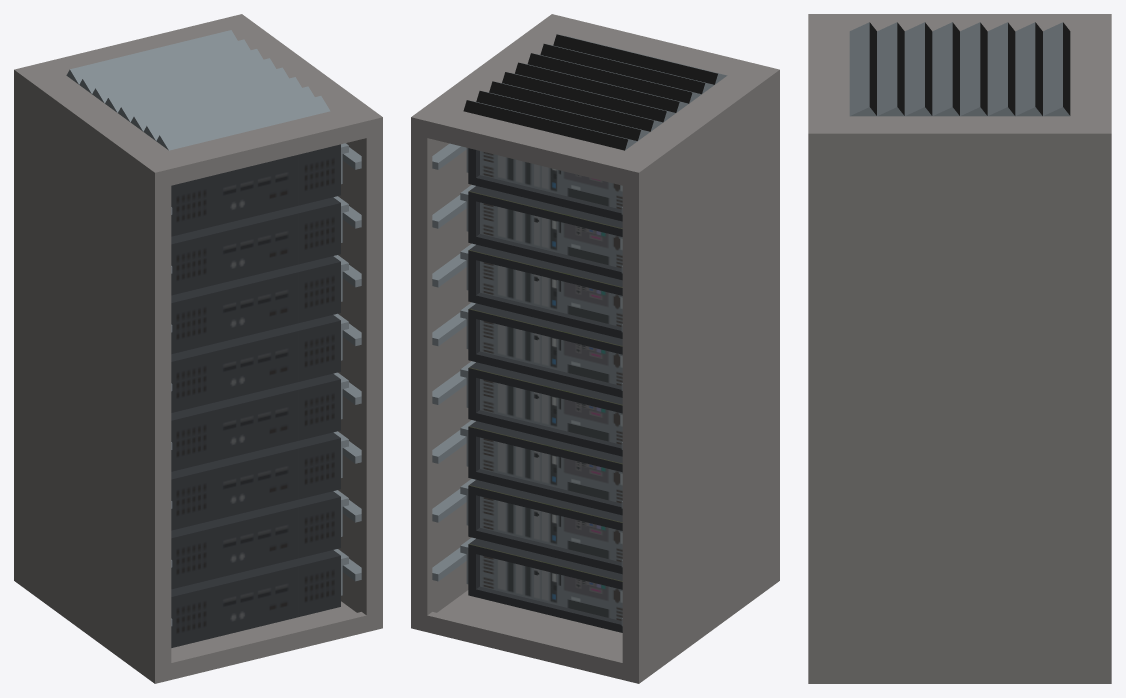
Rendered from AmpRack.obj.
3 views of the same model, side by side, from view 1: azimuth 30°, elevation 25°; view 2: azimuth 150°, elevation 25°; view 3: azimuth 270°, elevation 25° (orthographic). The views are drawn at different scales.
Size of the model in its own units: 0.5967 by 1.3 by 0.6391.
1 material, 1 textured.
